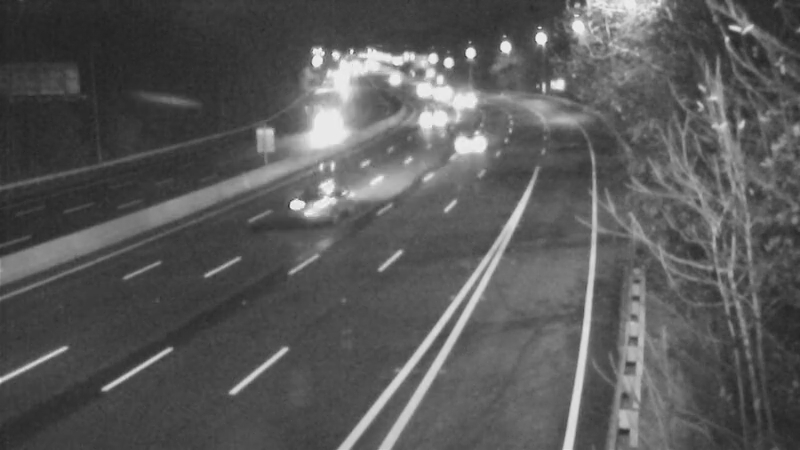vehicle: (277, 164, 357, 244), (369, 52, 419, 102), (396, 65, 446, 115), (416, 67, 466, 117), (437, 78, 487, 128), (408, 93, 458, 143), (443, 119, 493, 169), (299, 107, 349, 157)
